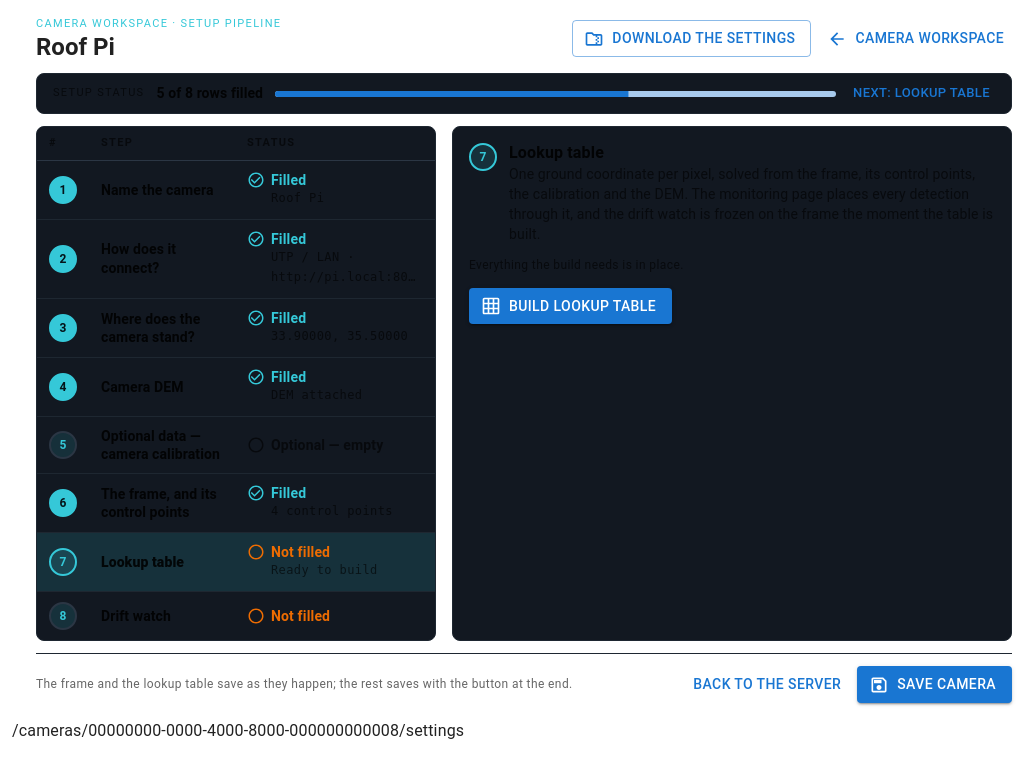
an EXISTING camera › ★ with four points and a DEM, Build runs and the table becomes the camera’s own
This screenshot has width=1036, height=768.
Click the button "Build lookup table". click: (571, 306)
box: [469,288,672,324]
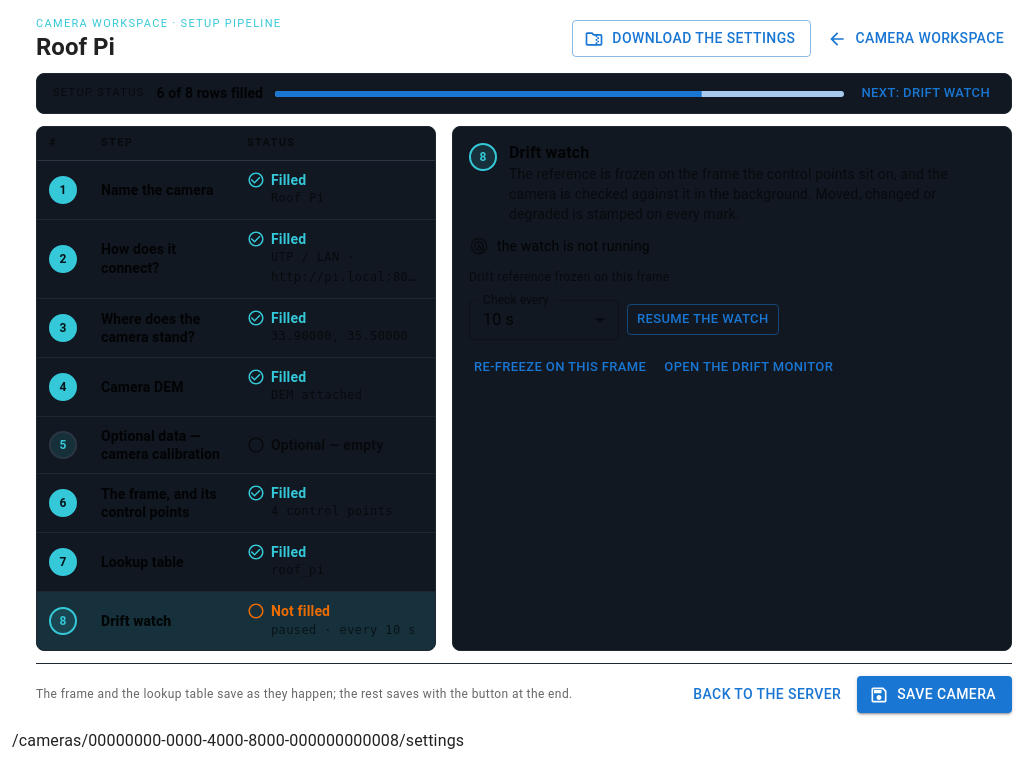
Click the heading "Lookup table". click: (142, 562)
box: [101,554,184,570]
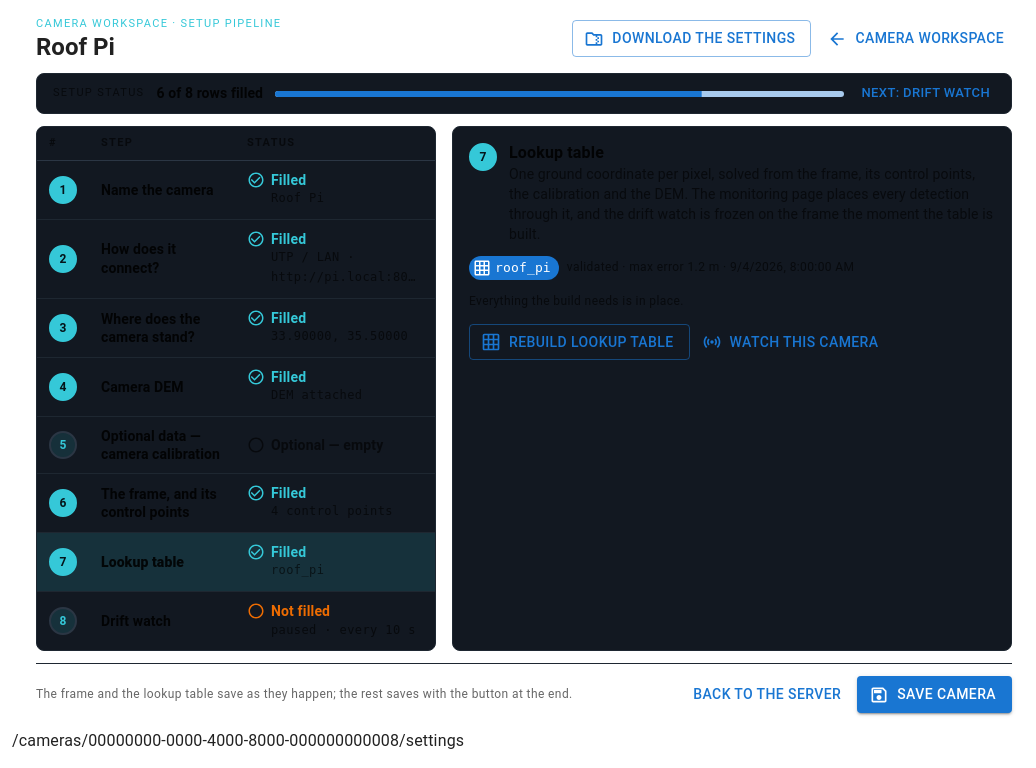
expect the button "Rebuild lookup table" is shown: met, box [469,324,690,360]
expect the button "Watch this camera" is shown: met, box [698,324,886,360]
